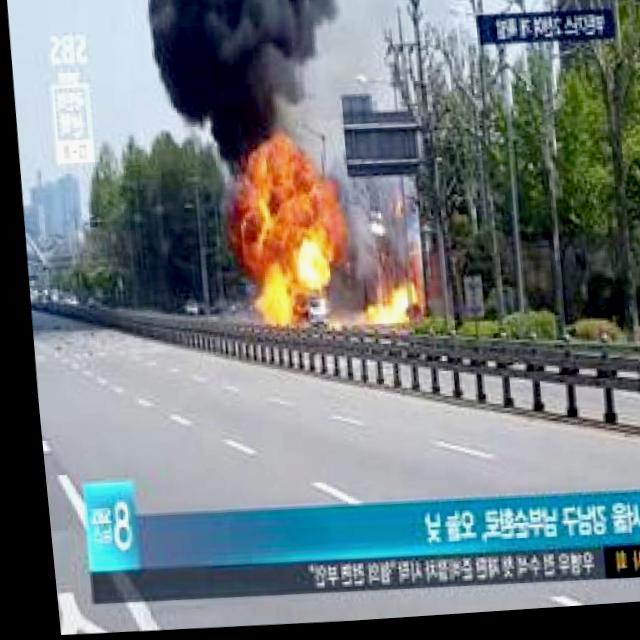Fire: (219, 179, 341, 297), (224, 146, 317, 187), (358, 290, 415, 332), (242, 295, 294, 330)
Smoke: (140, 0, 347, 148)
